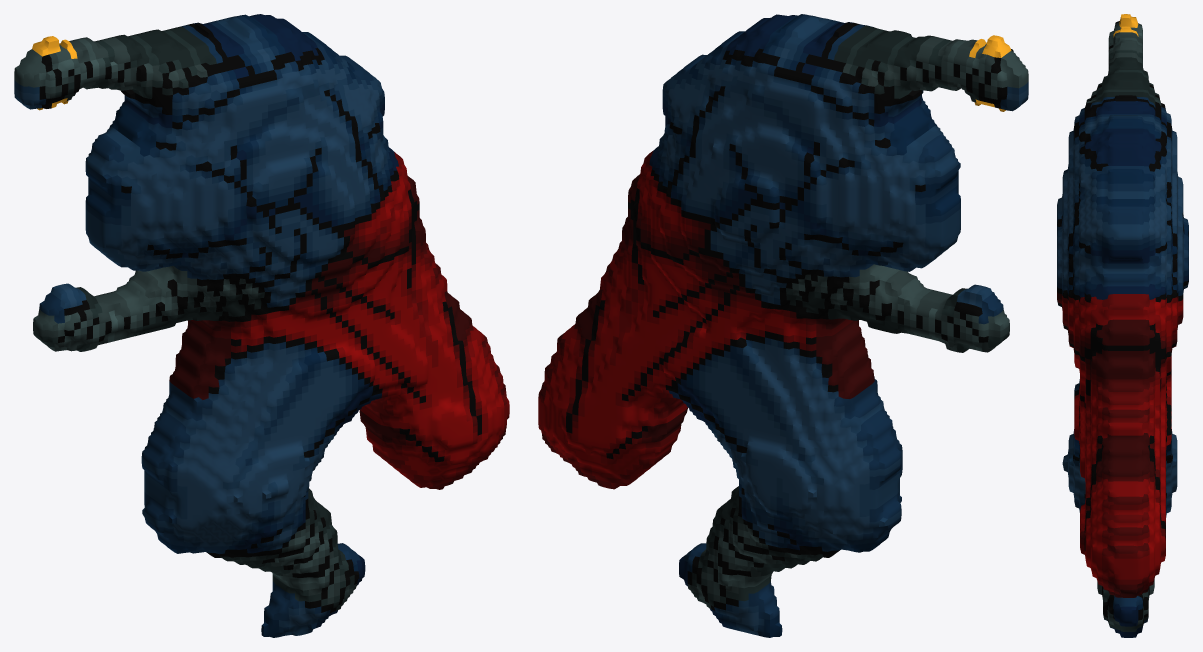
Rendered from Fight_017_2_15.obj.
3 renders of one model, left to right at view 1: azimuth 30°, elevation 25°; view 2: azimuth 150°, elevation 25°; view 3: azimuth 270°, elevation 25°, orthographic. The views are drawn at different scales.
Size of the model in its own units: 7.7 by 10 by 2.3.
1 material, 1 textured.
